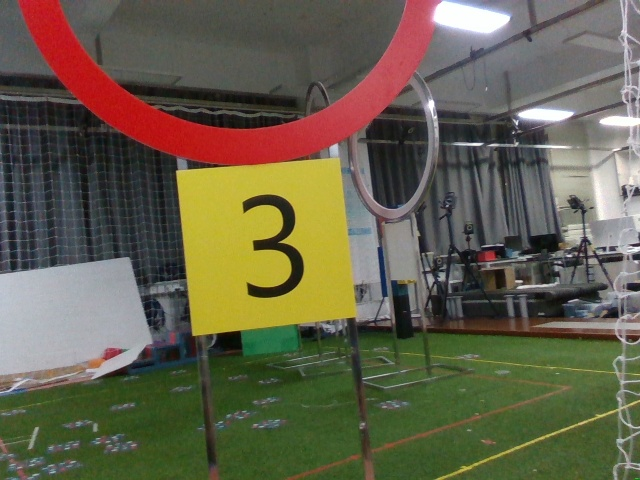target: (174, 166, 358, 319)
